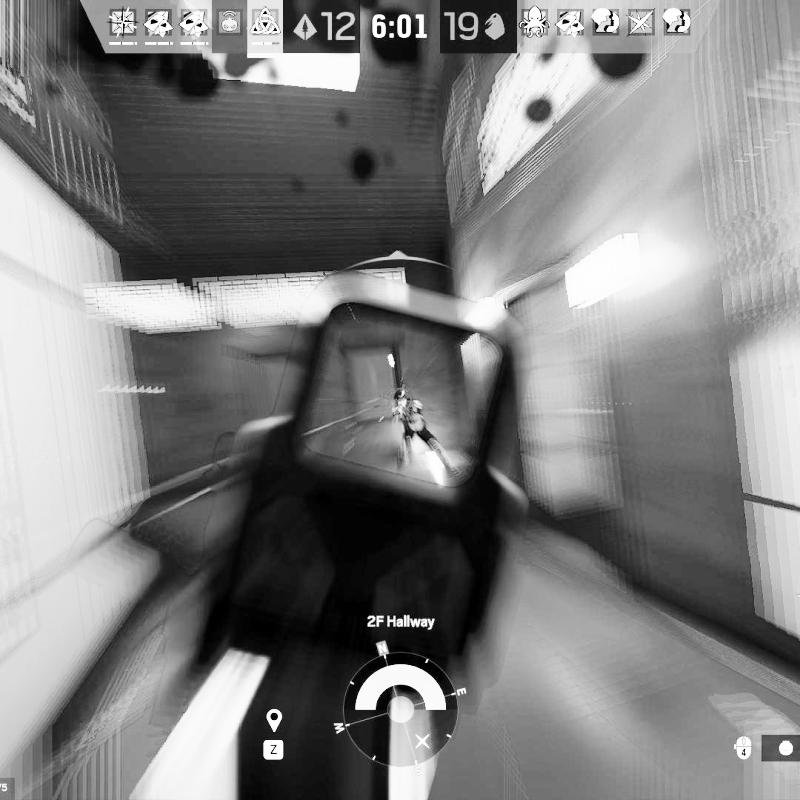Character: (388, 385, 464, 478)
Head: (394, 386, 410, 408)
